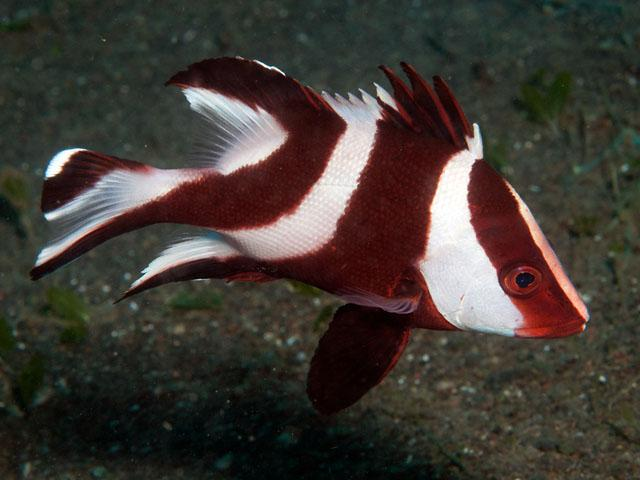Mulut: (503, 270, 609, 382)
Sirip Anal: (103, 222, 275, 326)
Sirip Dada: (281, 298, 427, 428), (318, 268, 440, 332)
Sirip Ekor: (18, 123, 134, 309)
Sirip Punggung: (145, 38, 501, 180)
